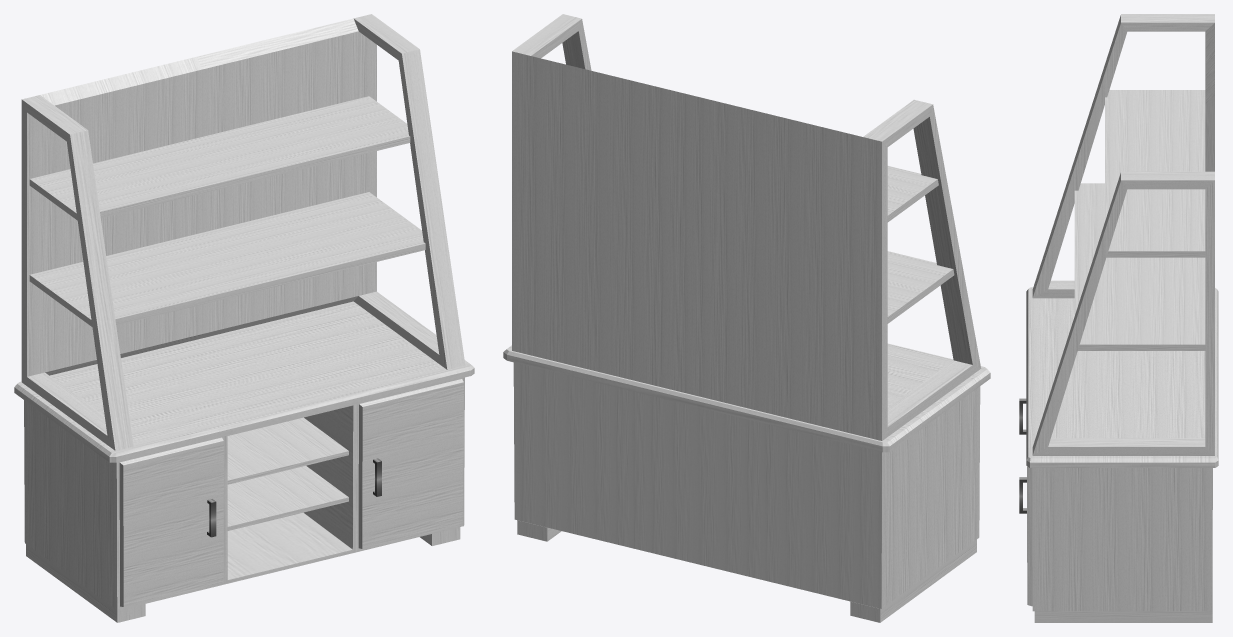
File: Hutch_B.FBX
3 views of the same model, side by side, from view 1: azimuth 30°, elevation 25°; view 2: azimuth 150°, elevation 25°; view 3: azimuth 270°, elevation 25° (orthographic). The views are drawn at different scales.
Parts seen in each view (by area): view 1: Hutch; view 2: Hutch; view 3: Hutch.
Boxes of the visible parts, <box> form: Hutch: <box>14,14,474,622</box>; Hutch: <box>503,14,990,622</box>; Hutch: <box>1019,14,1218,622</box>.
Bounding box in the file's own units: 338 × 403 × 164.
